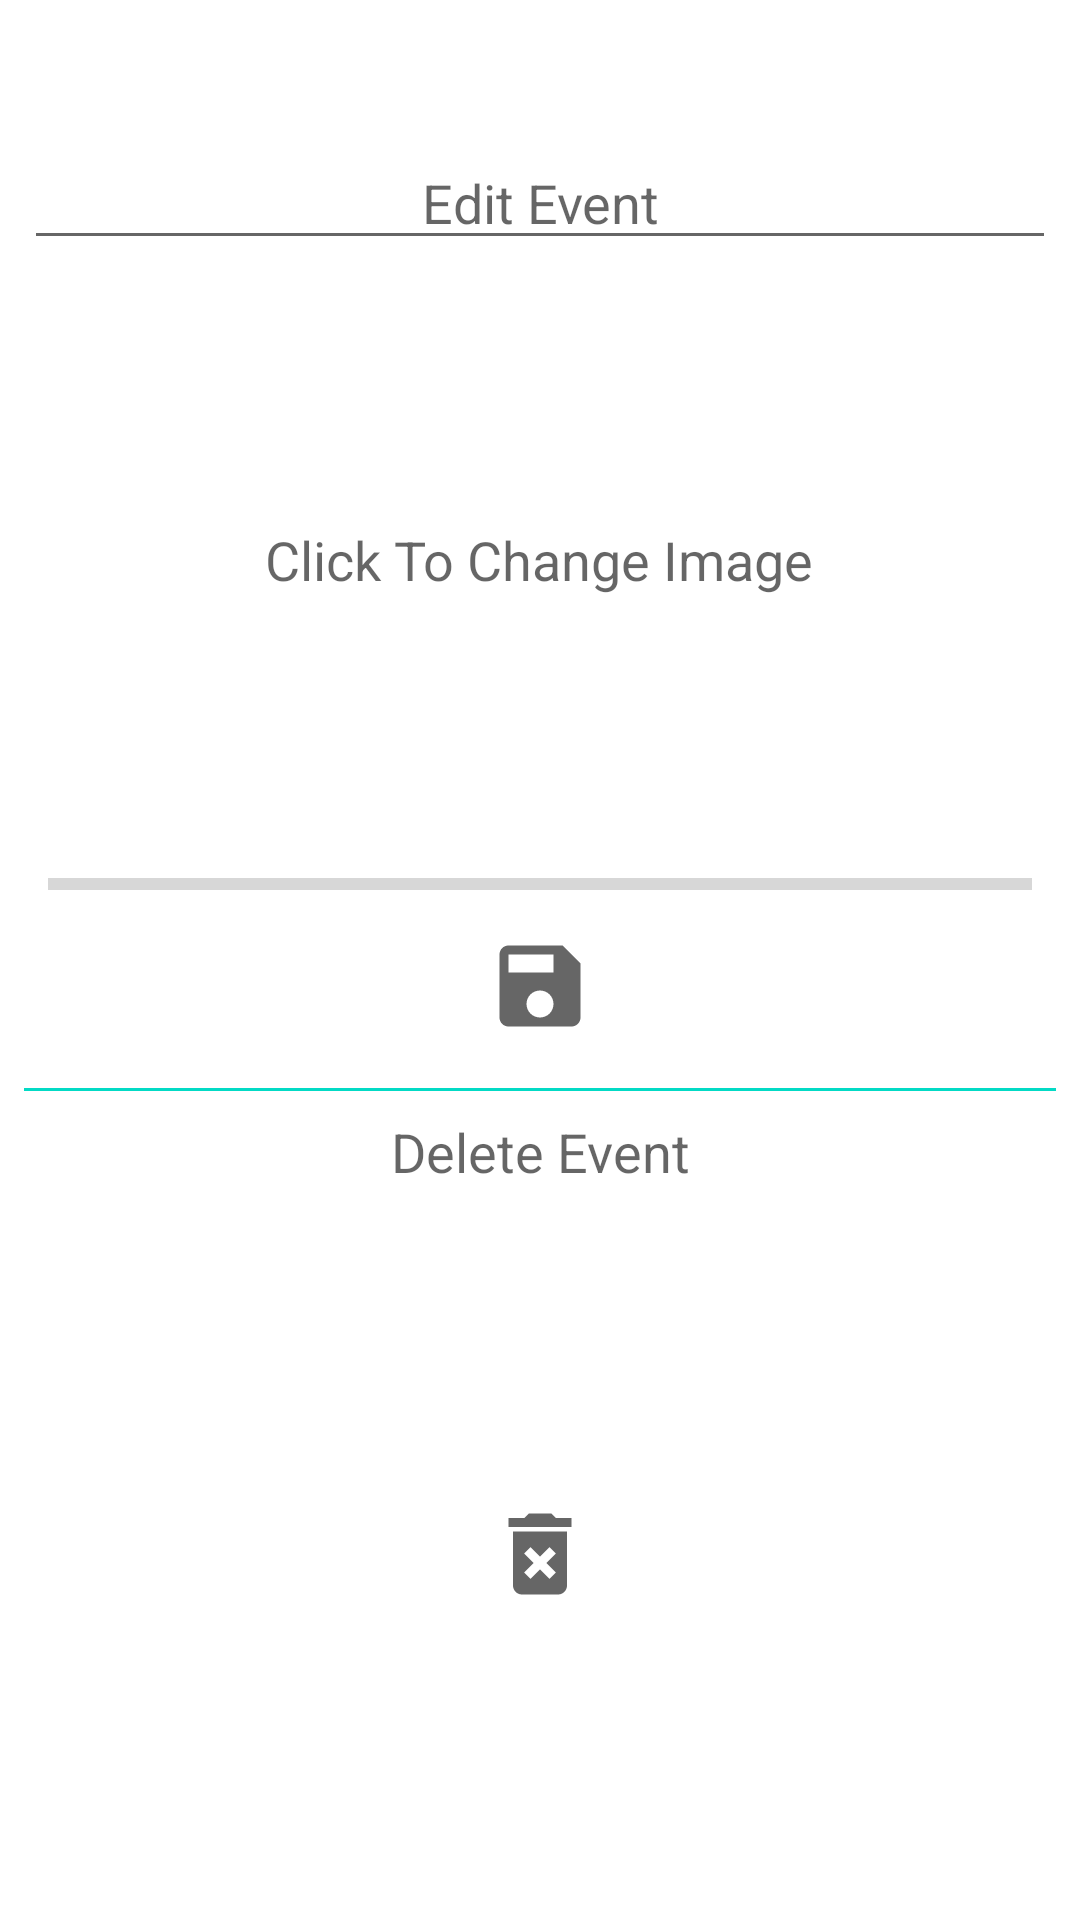

Where icons sit on this 1080px×1920px app screen, as {"left": x1, "top": y1, "right": x2, "bottom": y2}:
Delete Event: {"left": 508, "top": 1513, "right": 572, "bottom": 1595}
Save Edited Event: {"left": 499, "top": 945, "right": 581, "bottom": 1027}
